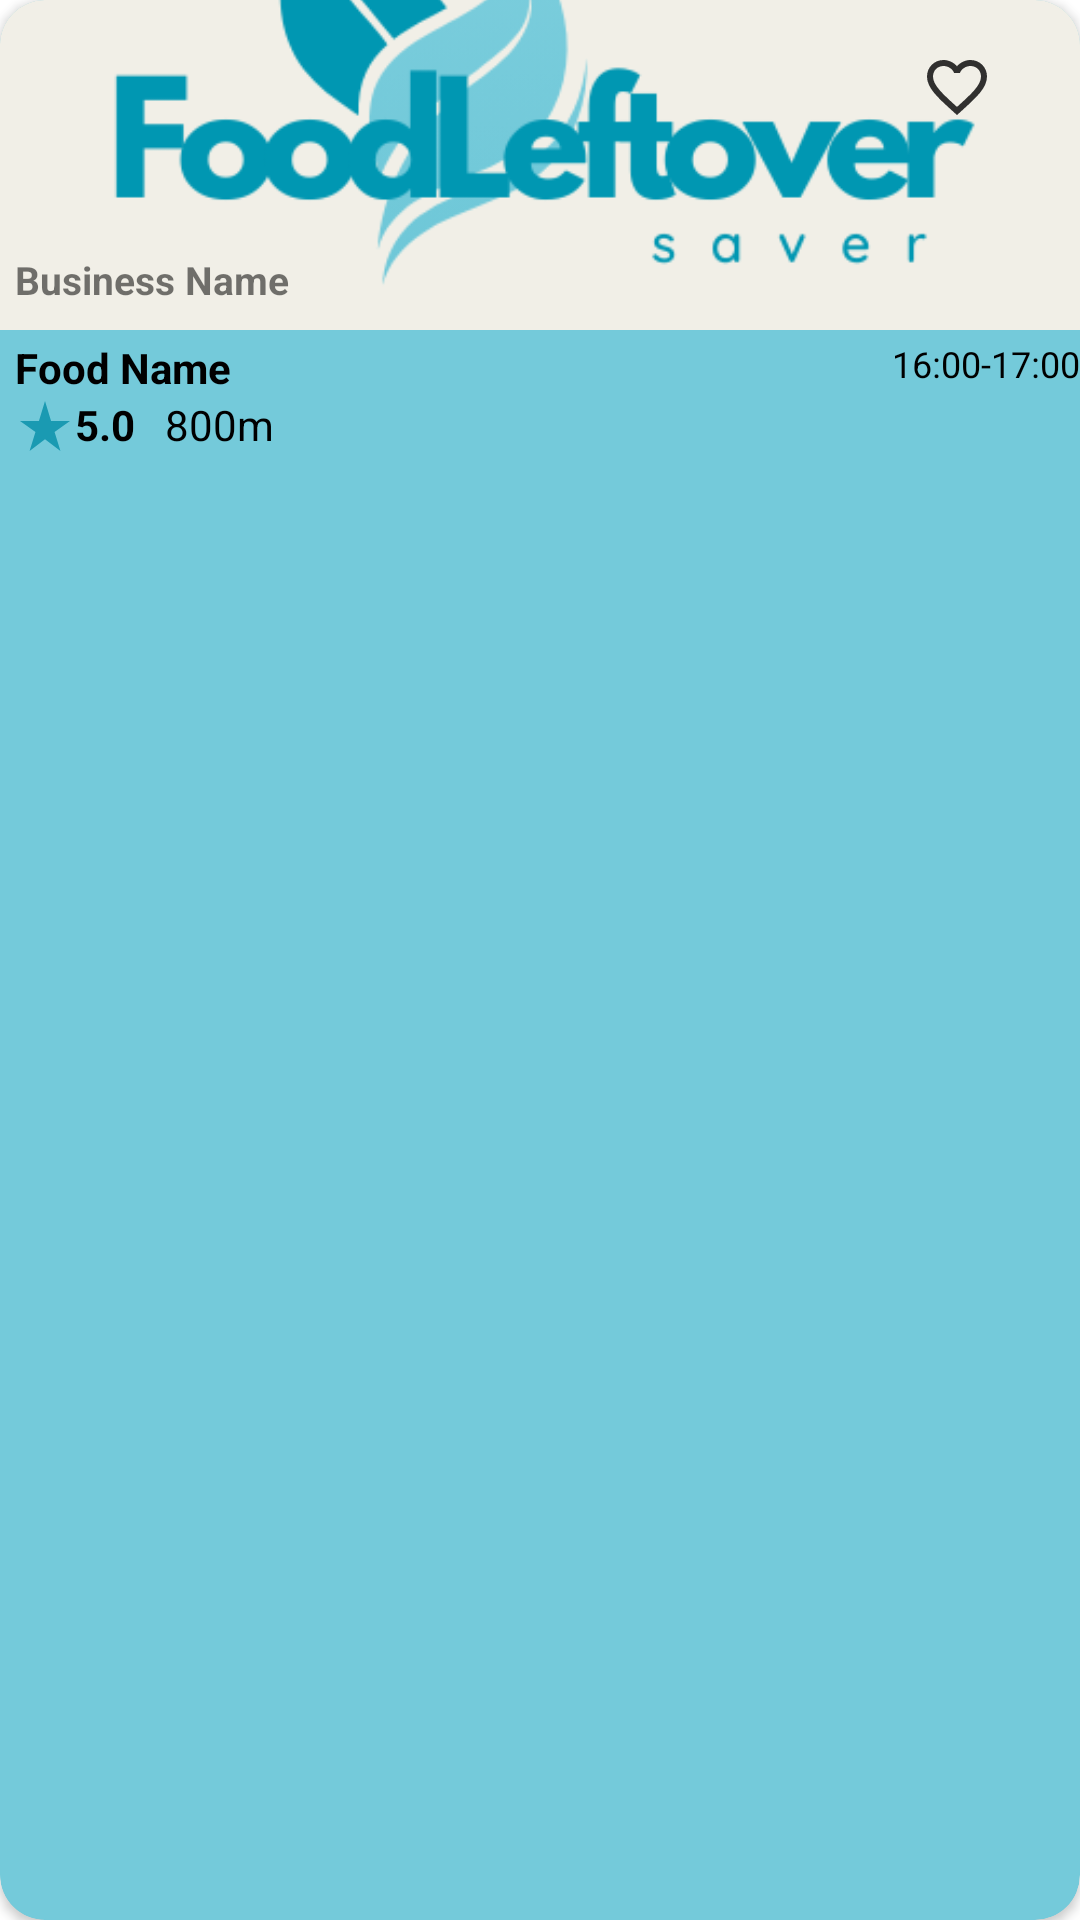

Named icons in this screenshot (1080px×1920px) and their centers, (x,y):
star: (45,426)
